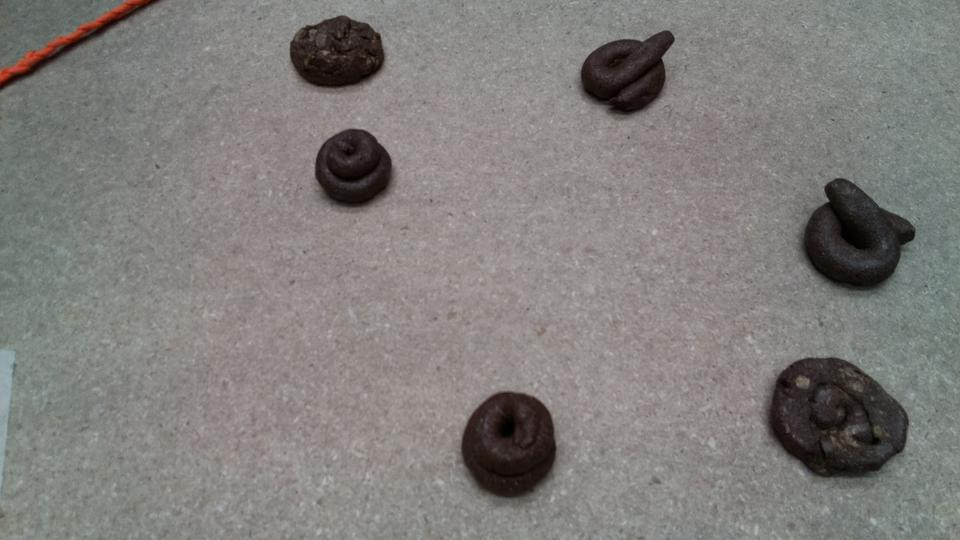poop: (773, 350, 912, 479), (801, 177, 918, 294), (463, 386, 563, 498), (576, 27, 682, 122), (286, 12, 387, 94), (314, 126, 399, 208)
rope: (5, 21, 115, 92), (80, 2, 155, 64)
